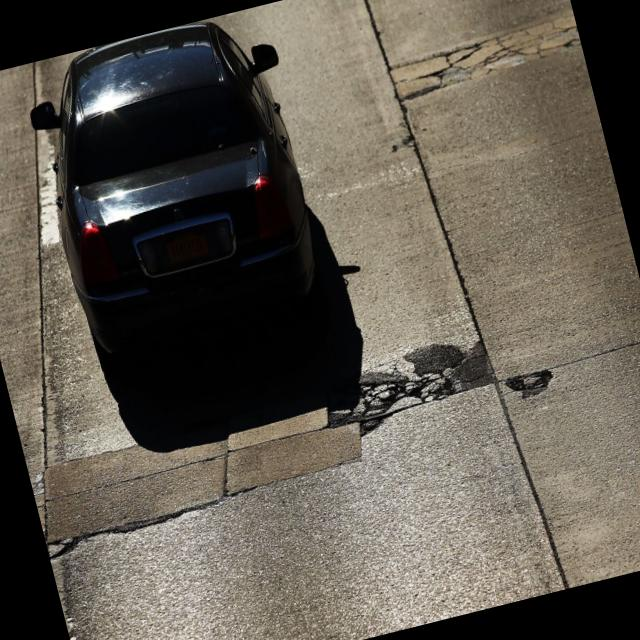Potholes: (303, 292, 583, 493)
